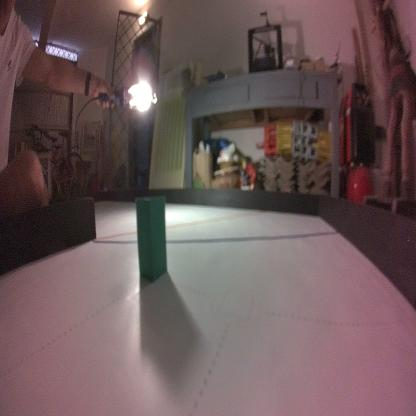green: (134, 192, 168, 283)
